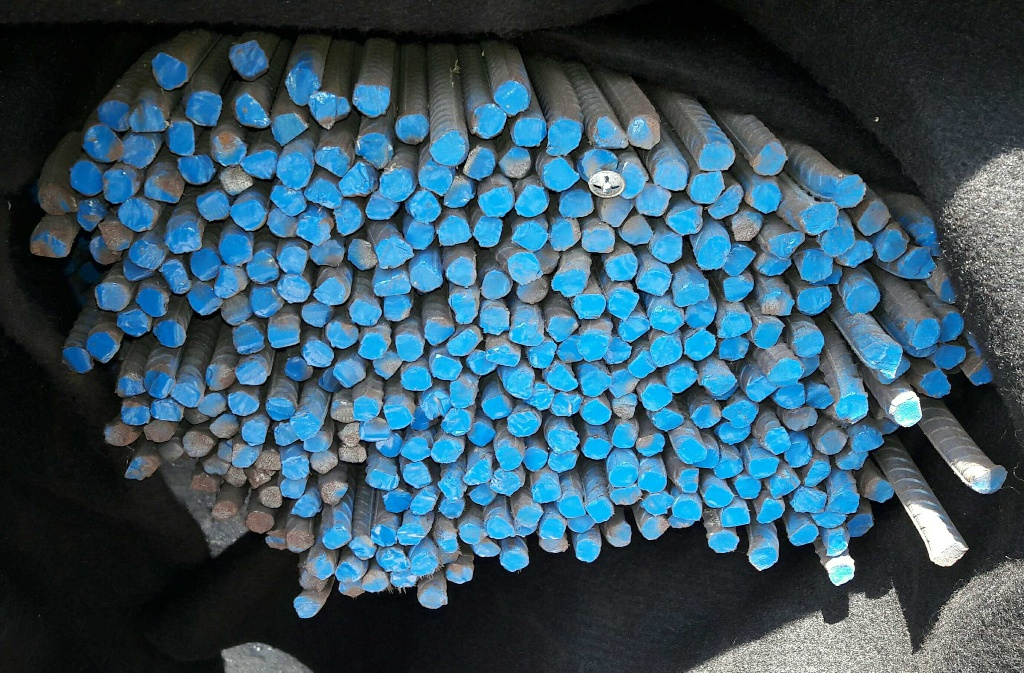dipstick: (230, 40, 269, 81), (308, 93, 351, 129), (83, 124, 121, 163), (232, 94, 272, 129), (152, 52, 189, 89), (580, 150, 618, 185), (339, 161, 379, 194), (185, 91, 222, 126), (37, 183, 76, 216), (276, 153, 312, 188), (472, 103, 507, 139), (635, 180, 670, 216), (430, 131, 467, 165), (118, 198, 156, 231), (286, 68, 319, 106), (542, 158, 578, 192), (376, 237, 413, 270), (270, 113, 307, 146), (356, 133, 393, 166), (69, 161, 103, 196), (210, 132, 245, 166), (418, 162, 453, 196), (867, 343, 902, 377), (354, 84, 390, 117), (507, 251, 543, 284), (494, 81, 530, 114), (548, 119, 581, 155), (707, 185, 743, 218), (598, 196, 636, 227), (188, 281, 222, 315), (695, 236, 729, 270), (592, 117, 628, 149), (803, 202, 839, 234), (478, 186, 513, 218), (160, 259, 191, 295), (305, 179, 342, 209), (667, 206, 704, 236), (744, 183, 781, 213), (130, 104, 169, 132), (30, 230, 69, 258), (122, 134, 155, 167), (215, 265, 247, 299), (271, 185, 306, 216), (512, 221, 547, 252), (890, 391, 921, 426), (178, 154, 214, 184), (617, 163, 647, 199), (246, 252, 279, 284), (443, 176, 476, 208), (629, 115, 661, 148), (97, 100, 131, 131), (298, 215, 332, 246), (580, 363, 611, 397), (767, 232, 806, 259), (166, 120, 196, 155), (380, 170, 415, 200), (95, 281, 131, 310), (558, 188, 594, 217), (447, 327, 484, 355), (232, 198, 265, 229), (464, 147, 495, 180), (515, 184, 548, 215), (800, 249, 831, 282), (754, 143, 785, 176), (858, 201, 889, 234), (310, 239, 344, 269), (846, 284, 880, 314), (901, 248, 935, 278), (145, 175, 181, 203), (409, 191, 441, 222), (405, 218, 436, 250), (500, 146, 531, 178), (724, 243, 755, 275), (877, 229, 908, 261), (103, 170, 133, 203), (439, 215, 472, 245), (732, 209, 762, 242), (242, 150, 276, 179), (701, 366, 735, 395), (700, 142, 734, 171), (86, 331, 117, 362), (448, 293, 479, 324), (503, 367, 534, 398), (190, 249, 222, 279), (550, 218, 580, 250), (581, 223, 613, 253), (621, 215, 653, 245), (692, 171, 722, 203), (232, 325, 265, 354), (219, 166, 252, 195), (513, 118, 546, 147), (655, 161, 688, 190), (130, 241, 164, 269), (334, 201, 362, 235), (510, 319, 545, 346), (723, 401, 758, 428), (167, 227, 203, 253), (123, 455, 162, 479), (551, 270, 587, 296), (252, 287, 283, 317), (446, 256, 476, 287), (317, 146, 348, 176), (481, 270, 512, 300), (608, 289, 639, 319), (137, 287, 169, 316), (268, 319, 300, 348), (220, 235, 252, 264), (577, 332, 609, 361), (835, 393, 867, 422), (768, 358, 805, 383), (89, 235, 122, 263), (333, 359, 366, 387), (396, 115, 429, 143), (117, 309, 151, 336), (409, 264, 443, 291), (650, 306, 685, 332), (472, 217, 502, 247), (267, 208, 298, 237), (651, 337, 682, 366), (685, 331, 716, 360), (835, 175, 864, 206), (100, 222, 132, 250), (154, 319, 186, 347), (278, 274, 310, 302), (314, 276, 346, 304), (197, 192, 229, 220), (821, 227, 853, 255), (366, 192, 399, 219), (374, 273, 411, 297), (572, 294, 606, 320), (792, 488, 826, 514), (933, 541, 967, 567), (348, 239, 377, 269), (480, 305, 509, 335), (653, 233, 683, 262), (793, 328, 823, 357), (439, 471, 467, 502), (349, 299, 380, 327), (609, 369, 640, 397), (911, 317, 939, 348), (77, 199, 104, 231), (666, 366, 698, 393), (798, 287, 830, 314), (376, 547, 409, 573), (326, 322, 359, 348), (974, 466, 1007, 492), (783, 406, 817, 431), (548, 313, 577, 342), (222, 296, 252, 324), (920, 369, 950, 397), (62, 346, 93, 373), (440, 408, 471, 435), (606, 253, 637, 280), (508, 410, 540, 436), (639, 270, 671, 296), (517, 278, 550, 303), (279, 247, 308, 275), (468, 346, 497, 374), (629, 349, 657, 378), (144, 371, 174, 398), (685, 300, 715, 327), (481, 395, 512, 421), (938, 311, 964, 342), (235, 359, 267, 384), (431, 355, 463, 380), (618, 317, 650, 342), (720, 312, 752, 337), (487, 343, 520, 367), (547, 428, 580, 452), (171, 380, 199, 408), (425, 317, 453, 345), (604, 336, 632, 364), (293, 411, 320, 440), (373, 351, 400, 380), (383, 294, 412, 321), (303, 341, 333, 367), (357, 333, 387, 359), (762, 290, 792, 316), (183, 431, 214, 456), (546, 365, 577, 390), (642, 384, 673, 409), (367, 466, 399, 490), (302, 302, 334, 326), (580, 400, 612, 424), (757, 252, 790, 275), (396, 334, 424, 361), (450, 380, 477, 408), (528, 342, 555, 370), (755, 320, 783, 347), (383, 403, 412, 429), (491, 469, 520, 495), (552, 391, 581, 417), (747, 376, 776, 402), (401, 436, 431, 461), (724, 276, 754, 301), (770, 473, 800, 498), (401, 366, 432, 390), (639, 517, 670, 541), (611, 393, 638, 420), (207, 364, 235, 390), (402, 462, 431, 487), (691, 403, 720, 428), (775, 383, 804, 408), (122, 401, 152, 425), (817, 430, 847, 454), (432, 439, 463, 462), (703, 484, 734, 507), (211, 413, 238, 439), (376, 431, 403, 457), (803, 461, 830, 487), (231, 442, 259, 467), (411, 550, 439, 575), (464, 460, 492, 485), (532, 476, 560, 501), (749, 546, 777, 571), (674, 285, 709, 305), (322, 526, 351, 550), (515, 503, 544, 527), (864, 478, 893, 502), (548, 450, 578, 473), (641, 492, 672, 514), (496, 445, 523, 470), (679, 438, 706, 463), (785, 441, 810, 468), (757, 498, 784, 523), (501, 548, 529, 572), (806, 384, 834, 408), (228, 393, 258, 415), (150, 400, 183, 420), (708, 530, 738, 552), (749, 457, 779, 479), (853, 430, 883, 452), (720, 421, 751, 442), (287, 529, 314, 553), (360, 417, 387, 441), (486, 515, 513, 539), (586, 497, 613, 521), (938, 345, 965, 369), (836, 450, 870, 469), (199, 393, 227, 416), (104, 421, 132, 444), (285, 358, 313, 381), (307, 556, 335, 579), (320, 482, 348, 505), (720, 336, 748, 359), (144, 419, 173, 441), (281, 457, 310, 479), (246, 511, 275, 533), (469, 483, 498, 505), (636, 434, 665, 456), (608, 464, 637, 486), (559, 494, 585, 518), (607, 521, 631, 547), (734, 475, 760, 499), (398, 522, 425, 545), (584, 437, 611, 460), (538, 516, 565, 539), (847, 514, 874, 537), (266, 398, 294, 420), (439, 497, 467, 519), (608, 487, 642, 505), (418, 587, 447, 608), (721, 506, 750, 527), (789, 524, 818, 545), (829, 492, 858, 513), (242, 419, 266, 444), (117, 374, 143, 397), (385, 490, 411, 513), (311, 452, 338, 474), (639, 471, 666, 493), (673, 500, 701, 521), (330, 399, 354, 423), (766, 428, 790, 452), (294, 595, 319, 618), (354, 396, 377, 421), (524, 446, 547, 471), (612, 425, 637, 448), (371, 525, 397, 547), (469, 423, 495, 445), (293, 495, 320, 516), (275, 422, 298, 446), (576, 539, 600, 562), (826, 532, 849, 556), (363, 571, 389, 592), (410, 493, 436, 514), (446, 563, 473, 583), (716, 458, 743, 478), (338, 444, 366, 463), (969, 364, 993, 386), (678, 468, 699, 493), (829, 565, 854, 586), (654, 411, 683, 429), (338, 423, 361, 445), (336, 562, 361, 582), (459, 523, 485, 542), (261, 486, 283, 508), (281, 478, 306, 497), (212, 501, 238, 519)
